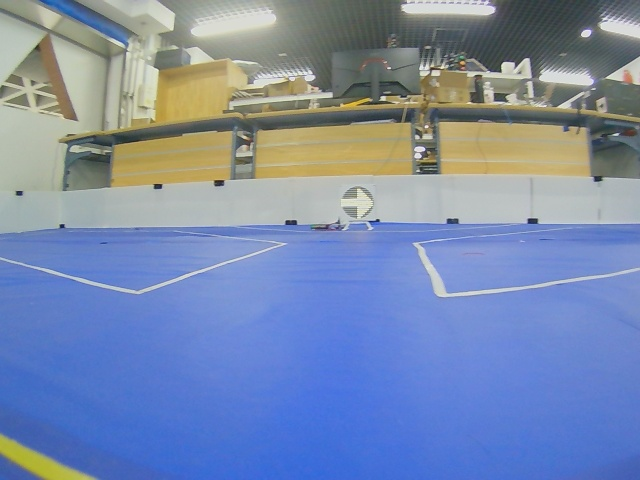right_yellow: (341, 186, 374, 220)
